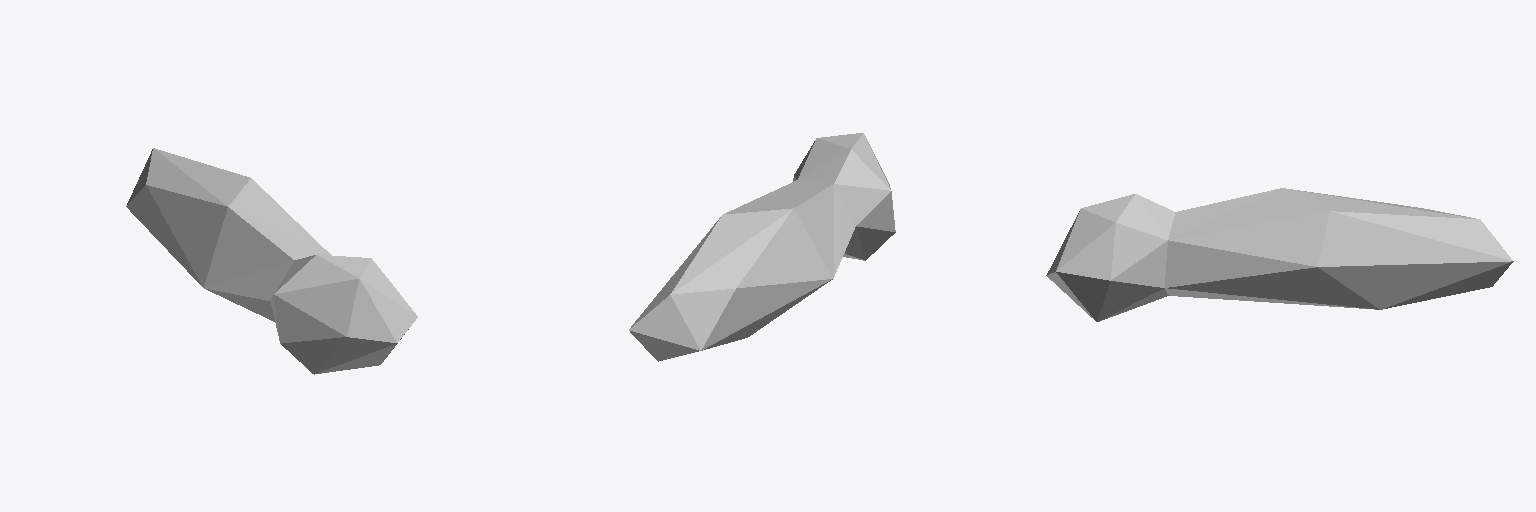
Rendered from upperLeftArm.obj.
The picture shows the model from 3 angles: view 1: azimuth 30°, elevation 25°; view 2: azimuth 150°, elevation 25°; view 3: azimuth 270°, elevation 25°; orthographic projection.
Visible parts, largest first — view 1: node_shape0.009; view 2: node_shape0.009; view 3: node_shape0.009.
Part boxes in pixels (x1,y1,x2,y2): node_shape0.009: (126,148,417,374); node_shape0.009: (629,133,895,361); node_shape0.009: (1046,188,1513,321).
Bounding box in the file's own units: 0.1246 × 0.1148 × 0.4271.